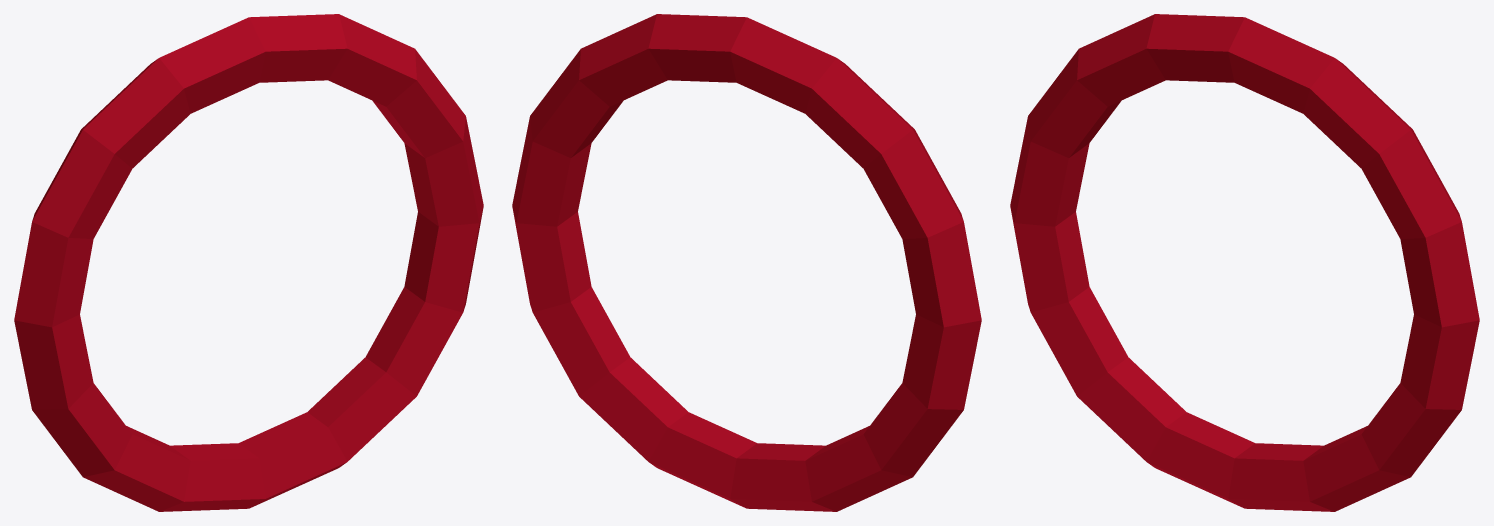
Rendered from portal.glb.
3 views of the same model, side by side, from view 1: azimuth 30°, elevation 25°; view 2: azimuth 150°, elevation 25°; view 3: azimuth 330°, elevation 25° (orthographic).
Parts seen in each view (by area): view 1: Torus; view 2: Torus; view 3: Torus.
Part boxes in pixels (x1,y1,x2,y2): Torus: (14, 14, 483, 511); Torus: (512, 14, 981, 511); Torus: (1010, 14, 1479, 511).
Size of the model in its own units: 2.3 by 2.3 by 0.2853.
